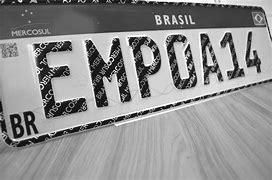placa_mercosul: (2, 3, 271, 145)
